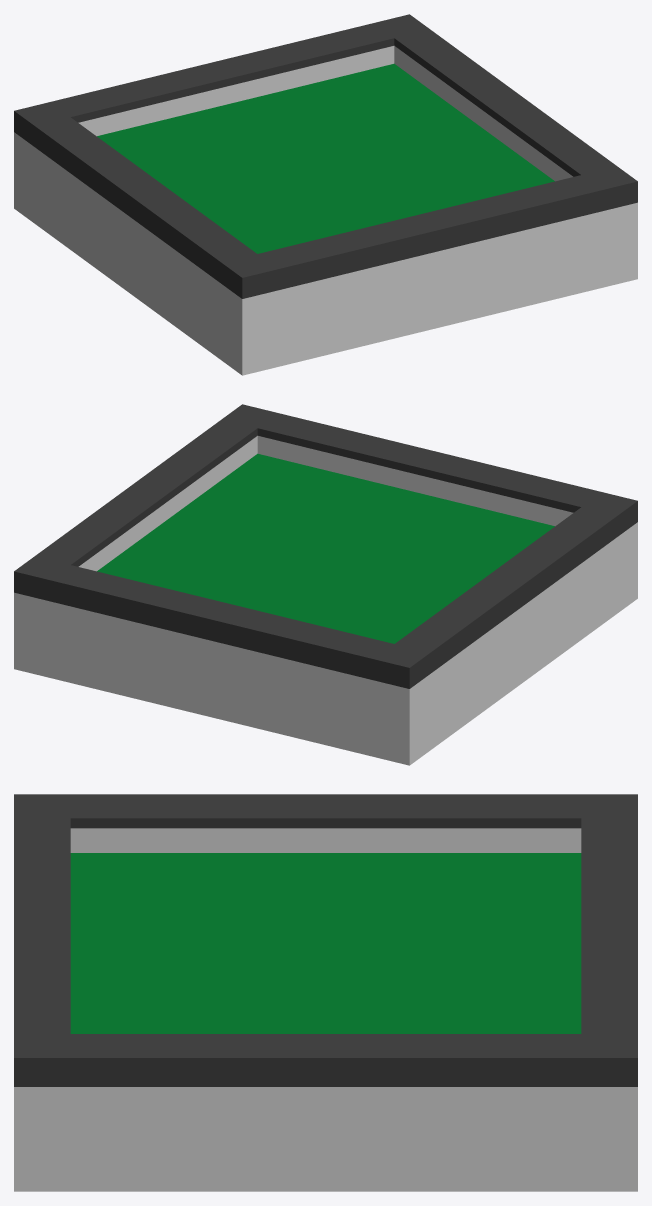
File: Flowerbed-01.fbx
3 renders of one model, top to bottom at view 1: azimuth 30°, elevation 25°; view 2: azimuth 150°, elevation 25°; view 3: azimuth 270°, elevation 25°, orthographic. The views are drawn at different scales.
Visible parts, largest first — view 1: Flowerbed-01; view 2: Flowerbed-01; view 3: Flowerbed-01.
Part boxes in pixels (x1,y1,x2,y2): Flowerbed-01: (14, 14, 637, 375); Flowerbed-01: (14, 404, 637, 765); Flowerbed-01: (14, 794, 637, 1191).
Bounding box in the file's own units: 1.27 × 0.2999 × 1.27.
